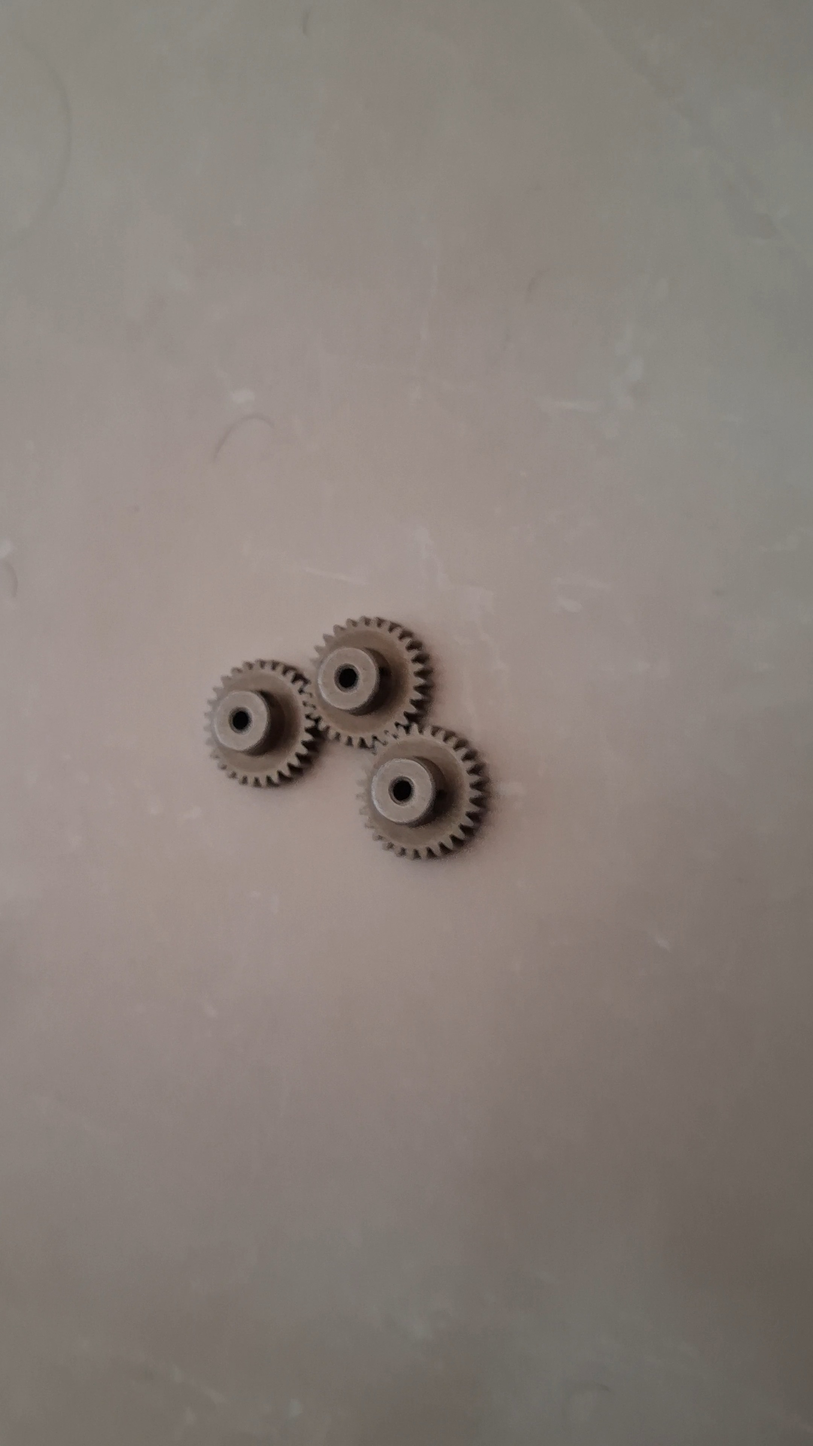spur gear: (360, 725, 486, 858), (312, 618, 430, 747), (207, 660, 318, 786)
